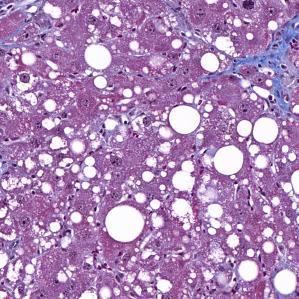fibrosis: (229, 19, 299, 109)
